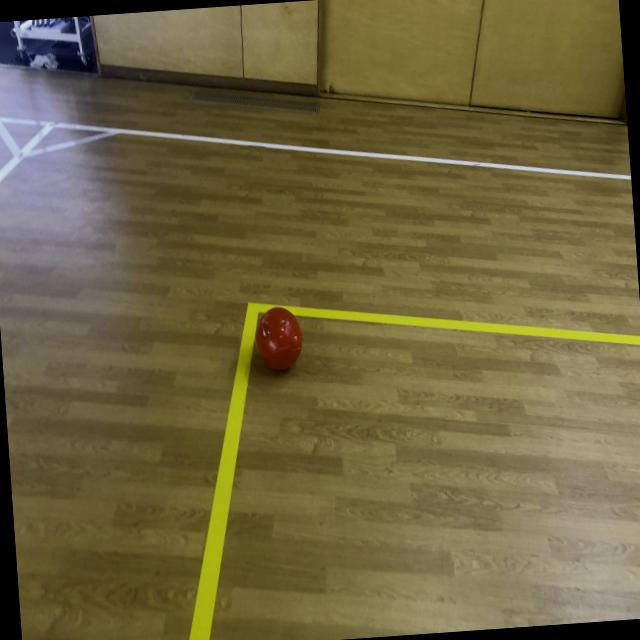red_ball: (255, 306, 305, 374)
